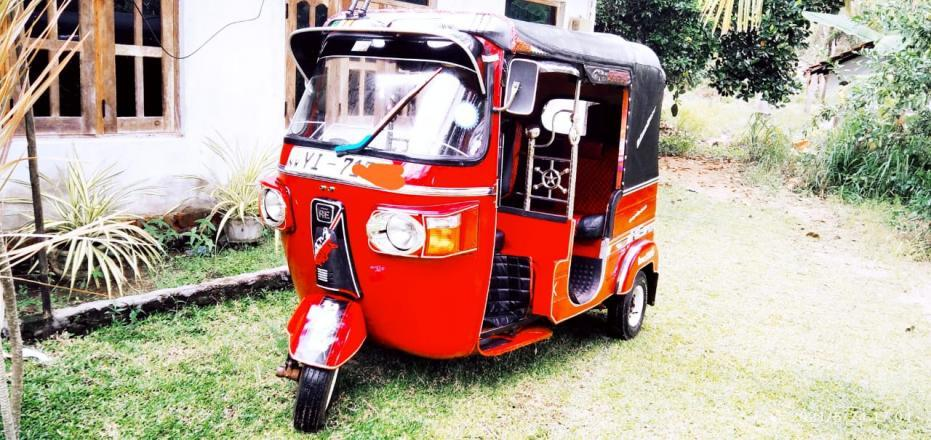threewheel: (257, 10, 667, 433)
